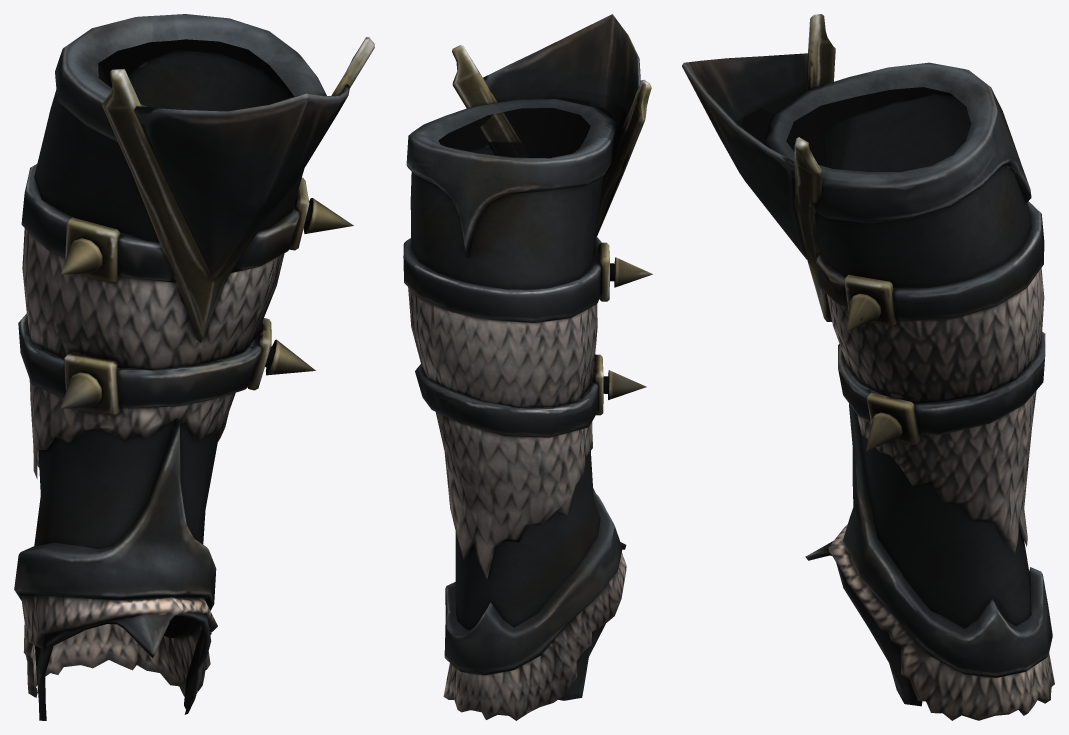
File: sm_armor_human_void_foot_up_r.gltf
3 renders of one model, left to right at view 1: azimuth 30°, elevation 25°; view 2: azimuth 150°, elevation 25°; view 3: azimuth 270°, elevation 25°, orthographic. The views are drawn at different scales.
Visible parts, largest first — view 1: sm_armor_human_void_foot_up_d; view 2: sm_armor_human_void_foot_up_d; view 3: sm_armor_human_void_foot_up_d.
Boxes of the visible parts, x1,y1,x2,y2 form: sm_armor_human_void_foot_up_d: (14,14,374,720); sm_armor_human_void_foot_up_d: (403,14,652,720); sm_armor_human_void_foot_up_d: (682,14,1054,720).
Bounding box in the file's own units: 0.2407 × 0.5775 × 0.3017.
Materials: 1 (1 with a texture image).
